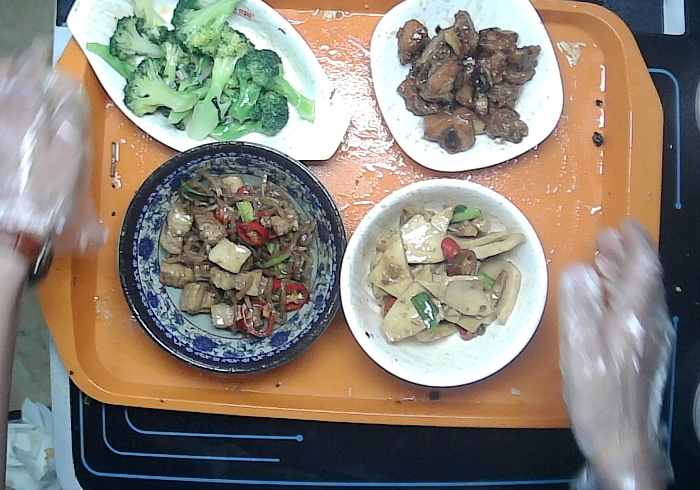ZNLD-Qing_Hua_Wan: (120, 135, 348, 378)
ZNLD-Si_Fang_Wan: (368, 1, 563, 173)
ZNLD-Tang_Wan: (338, 175, 551, 393)
ZNLD-Yu_Pan: (65, 1, 351, 161)
